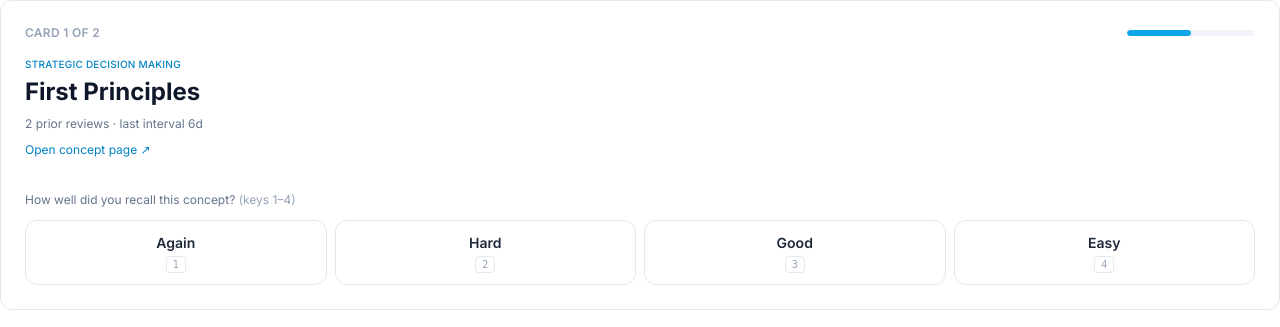
ReviewSession › rates with button and advances to next card
Check: the heading "First Principles" is shown, box [25, 77, 200, 106]
Click the button with test id "rate-good" at (795, 252), box [644, 220, 946, 285]
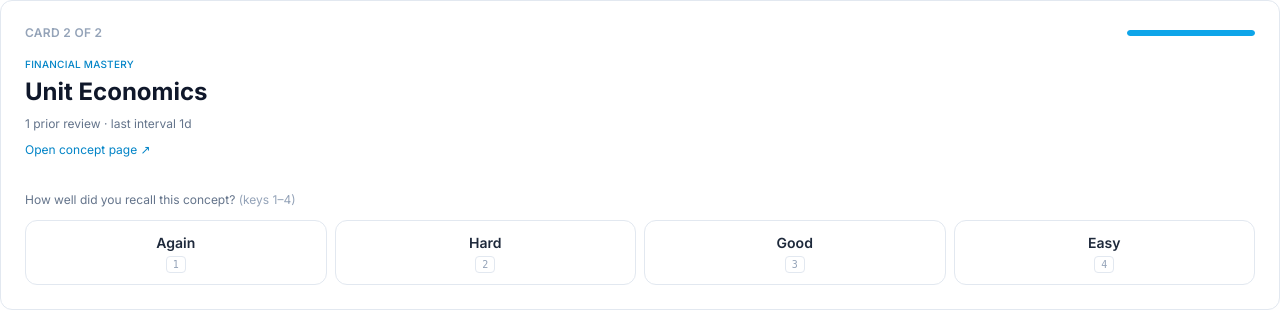
Check: the heading "Unit Economics" is shown, box [25, 77, 208, 106]
Check: the text "Card 2 of 2" is shown, box [25, 25, 102, 41]
